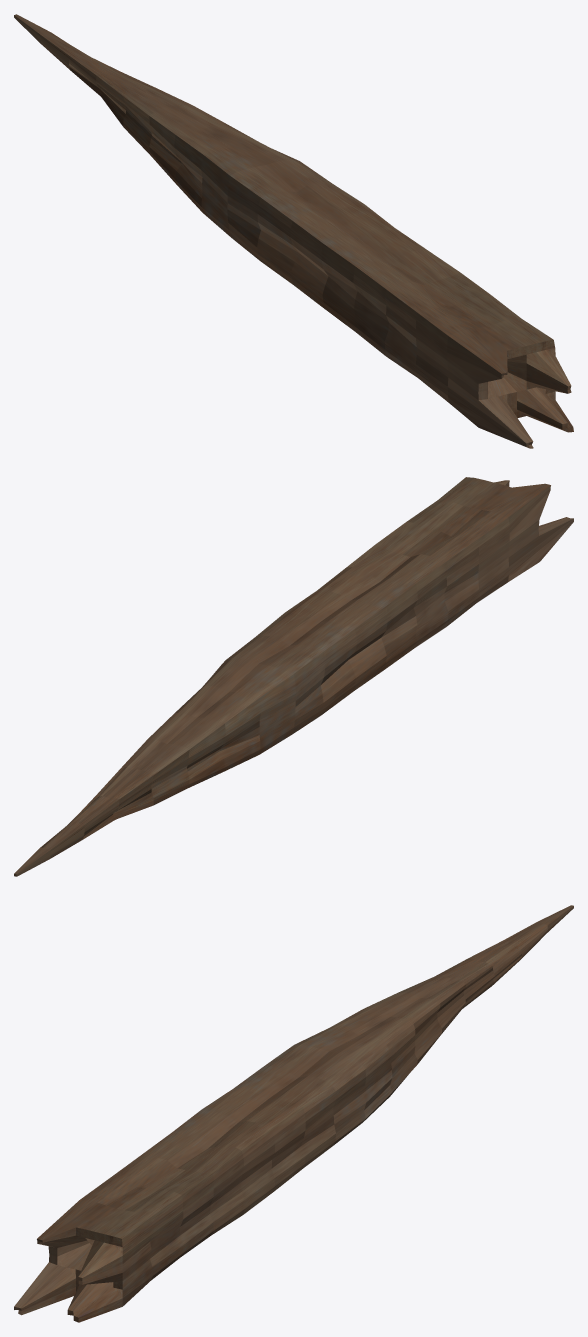
Rendered from Spear 2.fbx.
3 views of the same model, one above another, from view 1: azimuth 30°, elevation 25°; view 2: azimuth 150°, elevation 25°; view 3: azimuth 330°, elevation 25° (orthographic). The views are drawn at different scales.
Parts seen in each view (by area): view 1: Tble leg spear; view 2: Tble leg spear; view 3: Tble leg spear.
Boxes of the visible parts, x1,y1,x2,y2 form: Tble leg spear: (14, 14, 573, 448); Tble leg spear: (14, 477, 573, 876); Tble leg spear: (14, 905, 573, 1322).
Size of the model in its own units: 115 by 100 by 1403.
